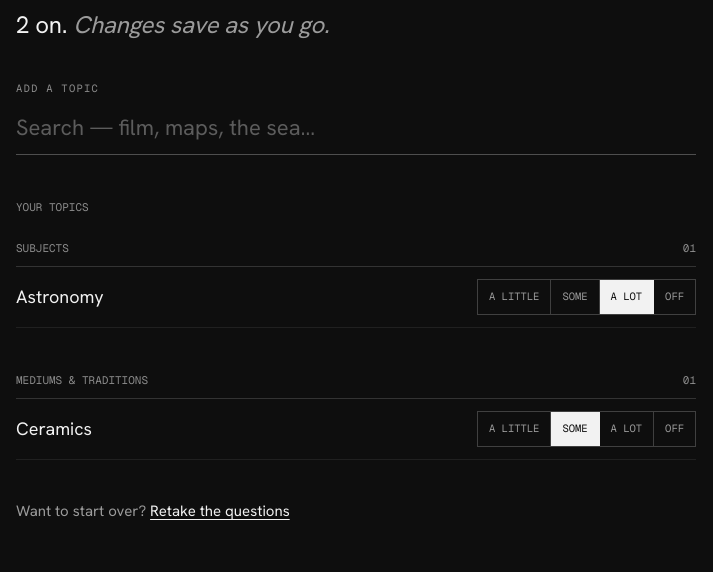
Test case: TopicsScreen › search › says so when nothing matches
Type "zzz" into the search field labelled "Add a topic" at [356, 128], box 16,101 -> 696,155
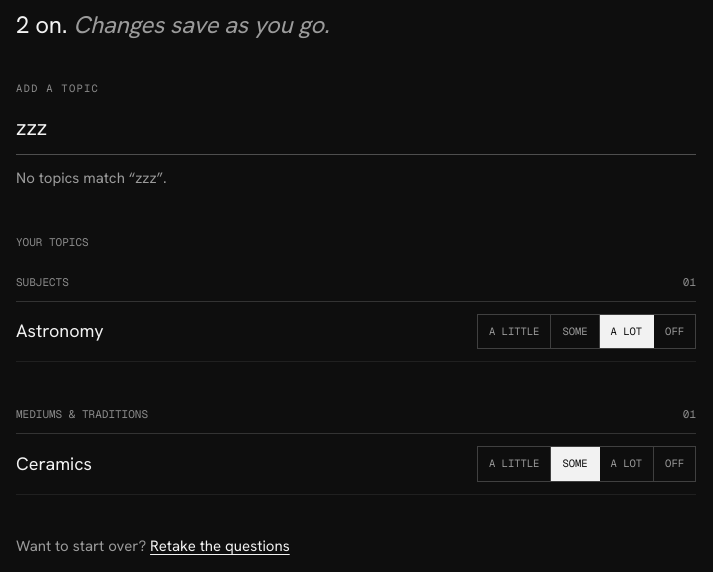
Expected: the text "No topics match “zzz”." is shown, 16,168 -> 167,188
